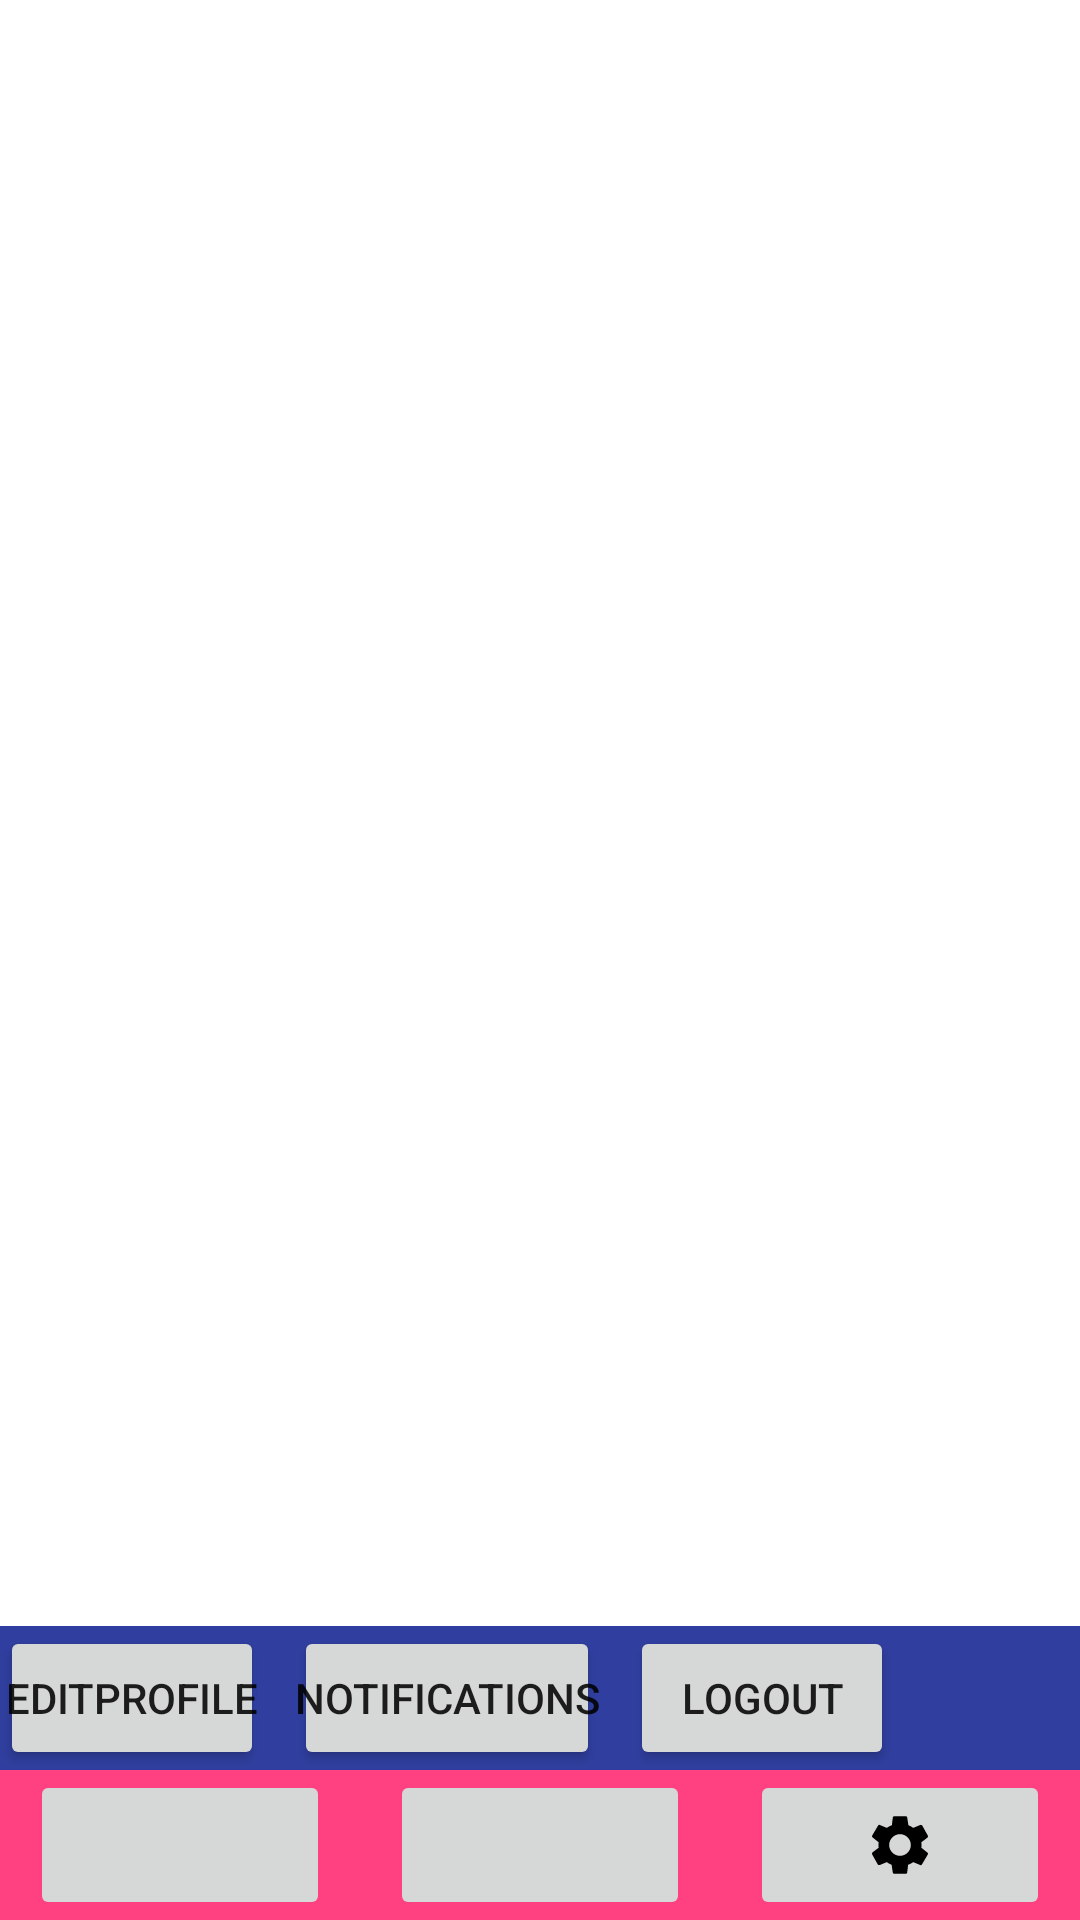

Screen size 1080 × 1920. Icon name, then its center in pixels as (x,y):
settings: (900,1845)
